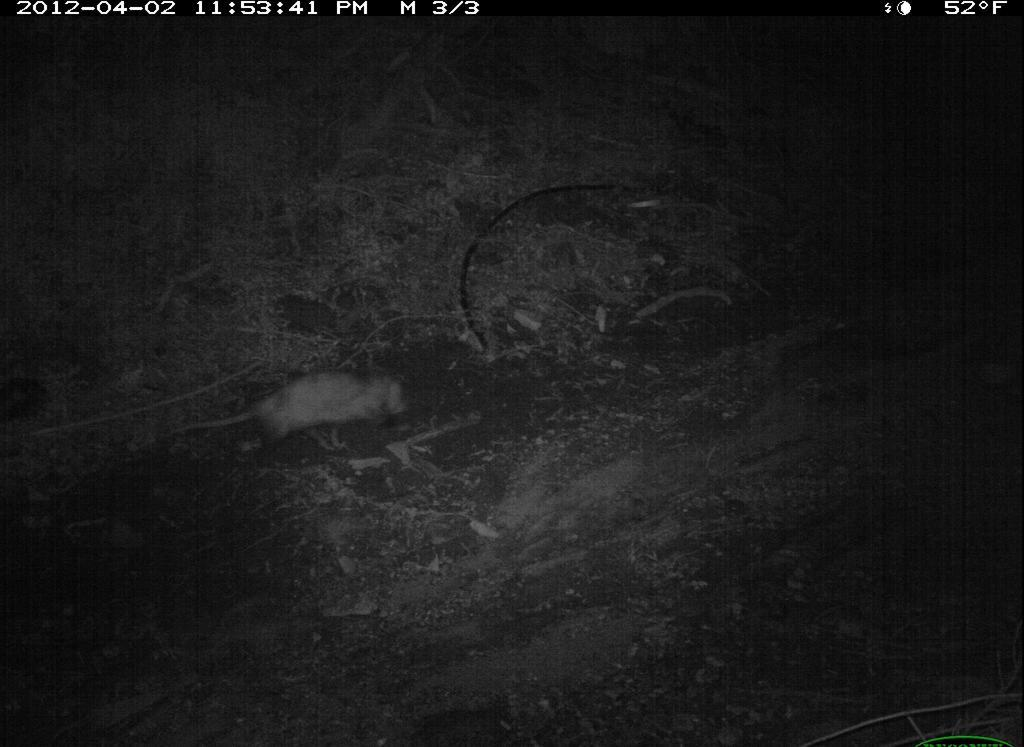opossum: (154, 351, 442, 468)
